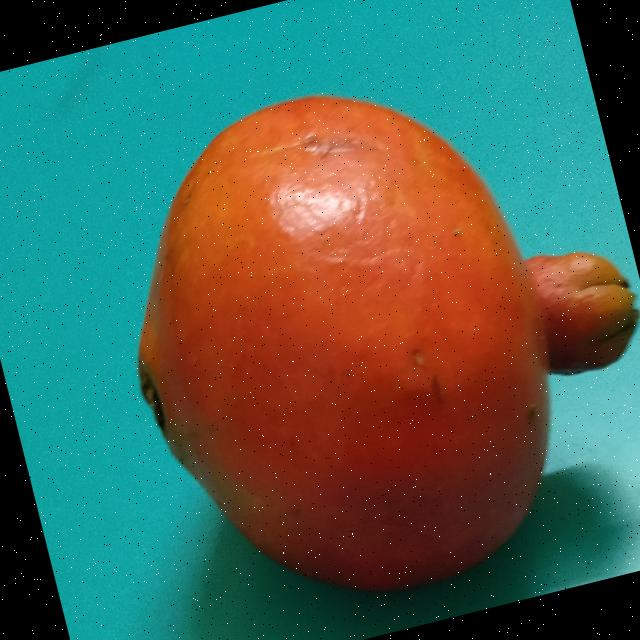Good_Pomegranate-50-60-days: (513, 251, 640, 373)
